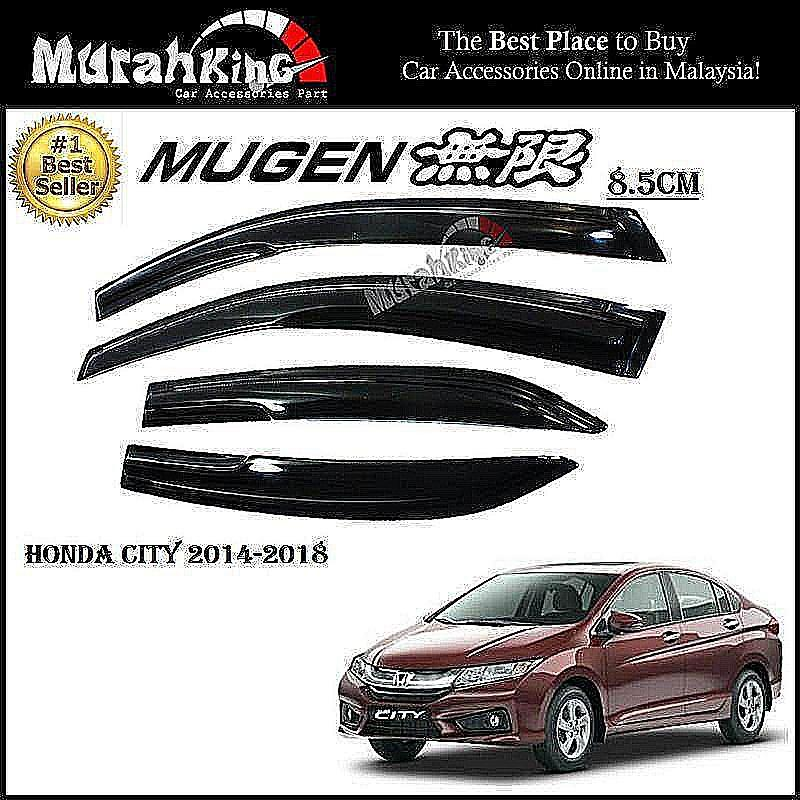Car hood: (356, 619, 575, 669)
Fender - -F-L-: (529, 619, 612, 747)
Fender - -R-L-: (729, 584, 788, 716)
Front bumper: (331, 676, 552, 757)
Headlight - -L-: (452, 655, 546, 691)
Headlight - -R-: (343, 650, 374, 691)
Passenger-s door - -F-L-: (591, 549, 691, 744)
Passenger-s door - -R-L-: (660, 546, 750, 745)
Rear bumper: (766, 659, 788, 711)
Rear light - -L-: (766, 615, 783, 642)
Side bumper - -L-: (602, 696, 730, 760)
Side mirror - -L-: (591, 608, 649, 654)
